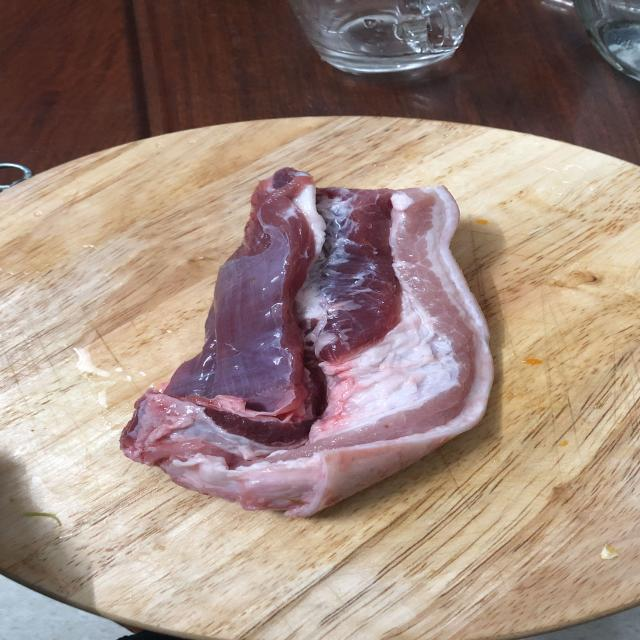chicken: (120, 165, 498, 519)
